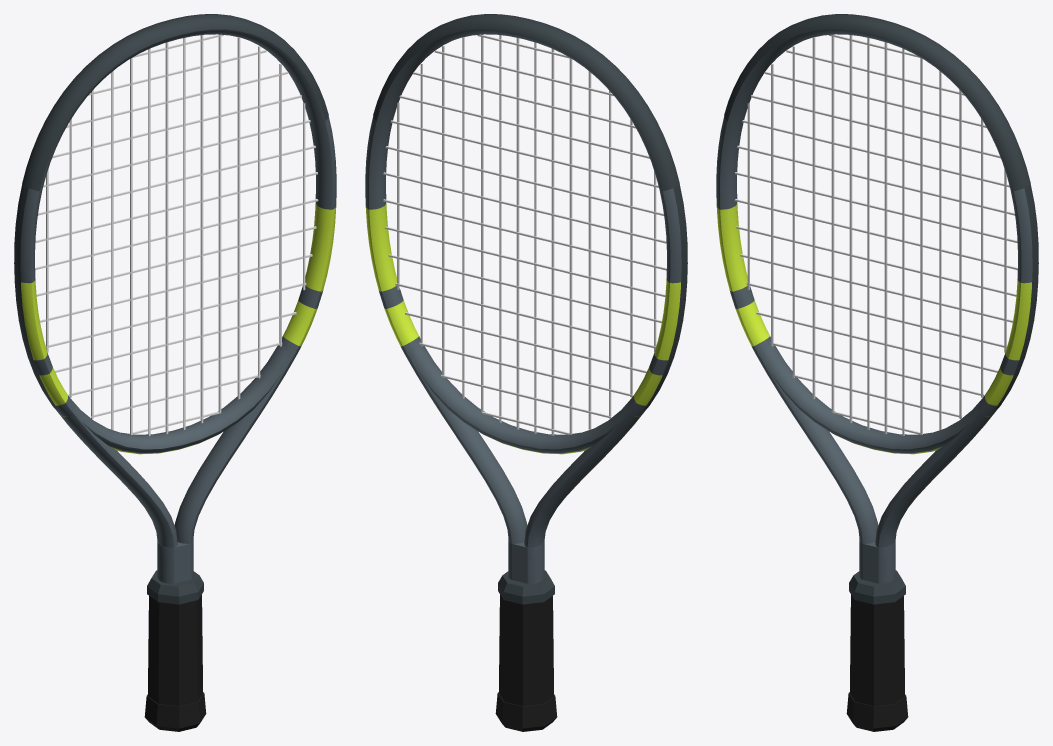
The model's file is babolat-carlitos-junior-21.glb.
3 views of the same model, side by side, from view 1: azimuth 30°, elevation 25°; view 2: azimuth 150°, elevation 25°; view 3: azimuth 330°, elevation 25° (orthographic).
Parts seen in each view (by area): view 1: frame, strings_mains, strings_crosses, bumper, grip, butt_cap, grommets, collar; view 2: frame, strings_mains, strings_crosses, bumper, grip, butt_cap, grommets, collar; view 3: frame, strings_mains, strings_crosses, bumper, grip, butt_cap, grommets, collar.
Part boxes in pixels (x1,y1,x2,y2): frame: (20,29,336,583); strings_mains: (46,34,305,436); strings_crosses: (35,34,318,434); bumper: (22,14,328,190); grip: (148,594,202,706); butt_cap: (144,692,206,731); grommets: (14,184,57,409); collar: (147,570,203,604); frame: (365,29,681,583); strings_mains: (397,34,656,435); strings_crosses: (383,34,666,435); bumper: (373,14,679,190); grip: (499,594,553,706); butt_cap: (495,692,557,731); grommets: (644,184,687,409); collar: (498,570,554,604); frame: (716,29,1032,583); strings_mains: (747,34,1006,436); strings_crosses: (734,34,1017,434); bumper: (724,14,1030,190); grip: (850,594,904,706); butt_cap: (846,692,908,731); grommets: (995,184,1038,409); collar: (849,570,905,604).
Size of the model in its own units: 0.2539 by 0.5337 by 0.0396.
